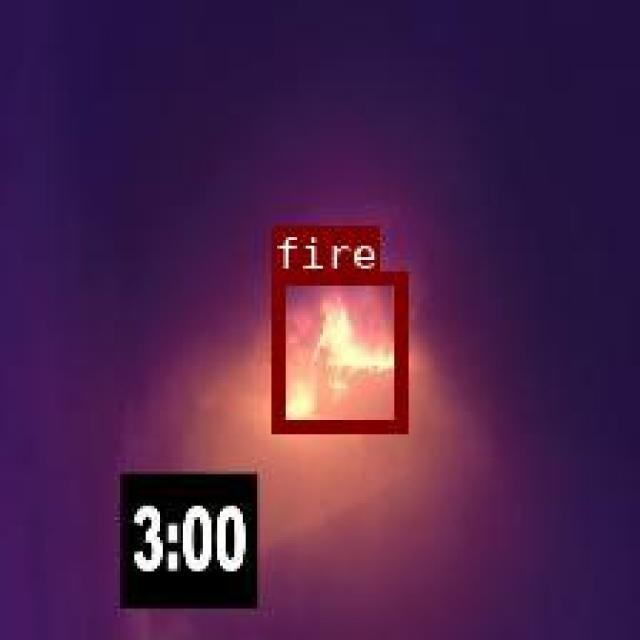fire: (270, 269, 404, 431)
